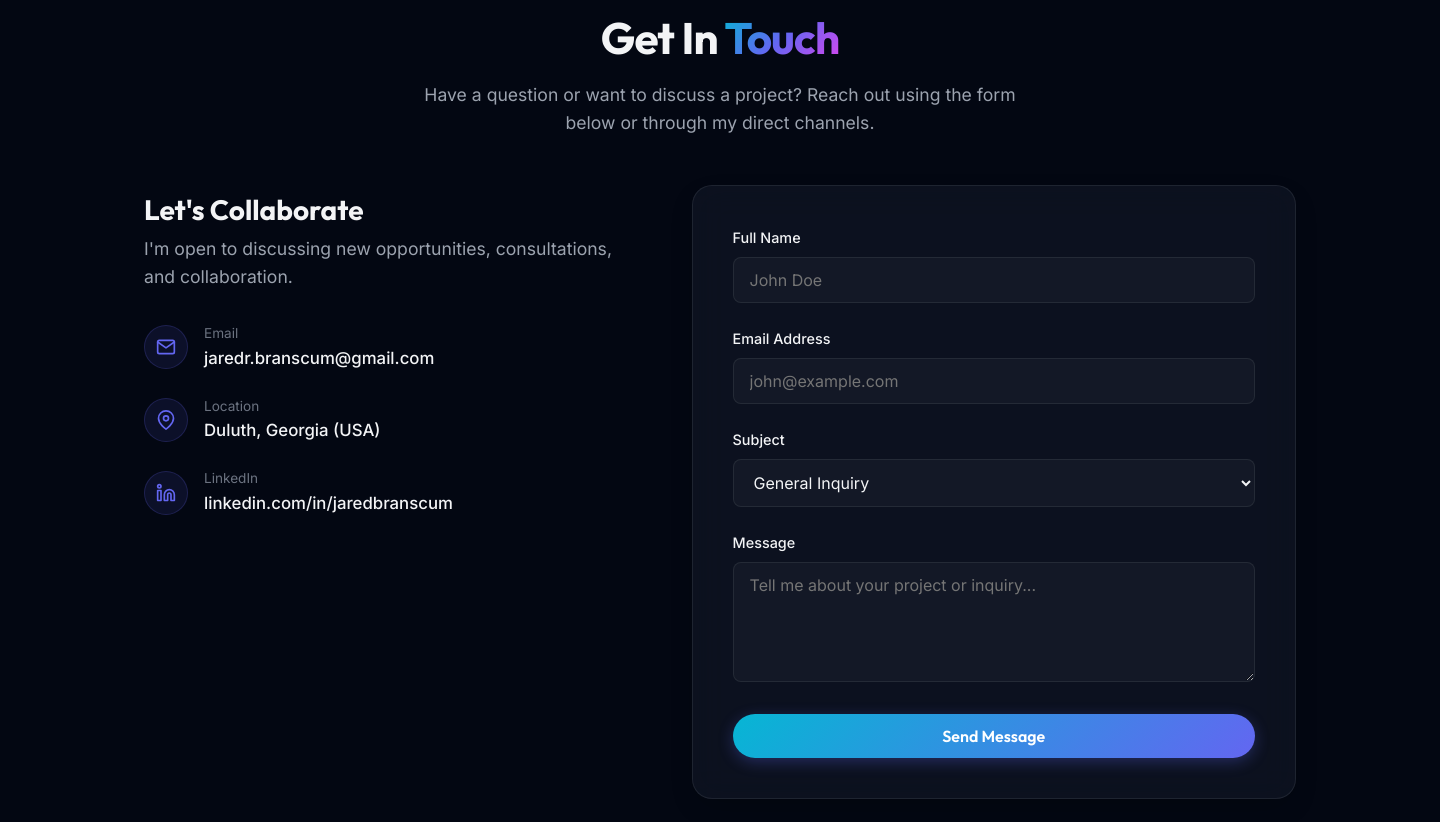
Test: Contact Component › displays validation error for invalid email
In the field with test id "form-input-name": (994, 280) [732,257,1255,303], type "Jane Doe"
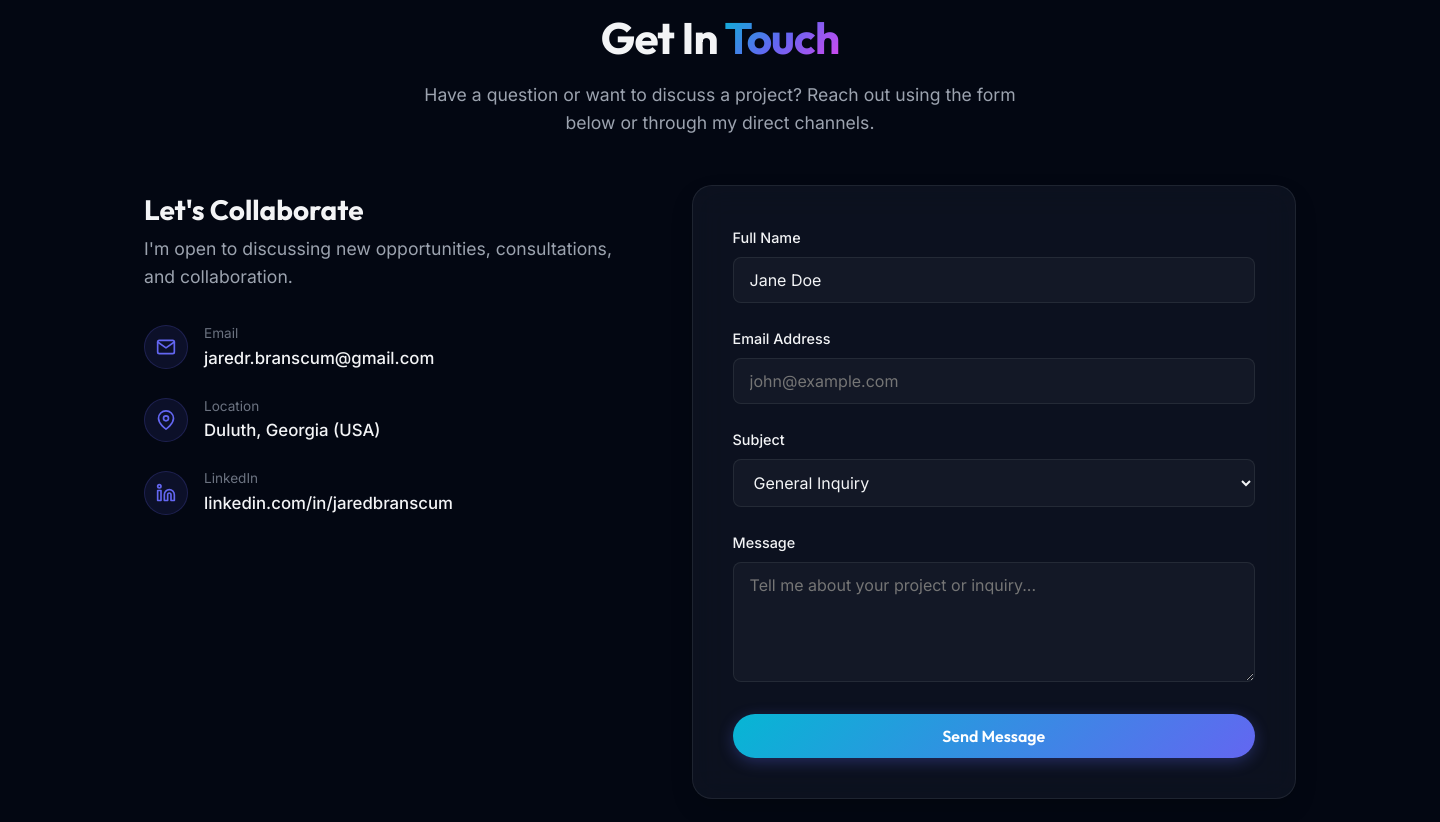
In the field with test id "form-input-email": (994, 381) [732,358,1255,404], type "invalid-email"
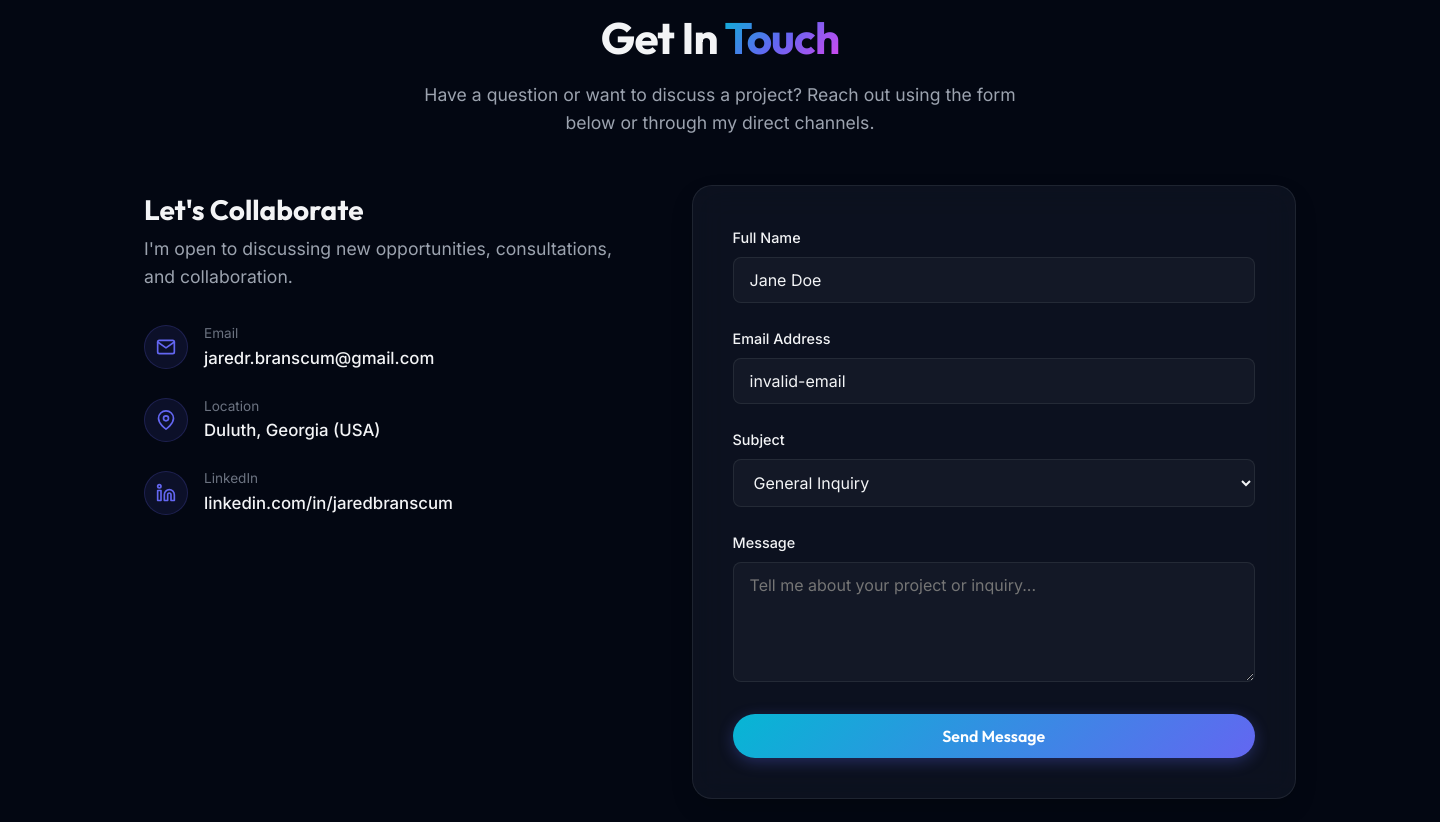
In the text box with test id "form-input-message": (994, 622) [732,562,1255,682], type "This is a long message to pass validation."
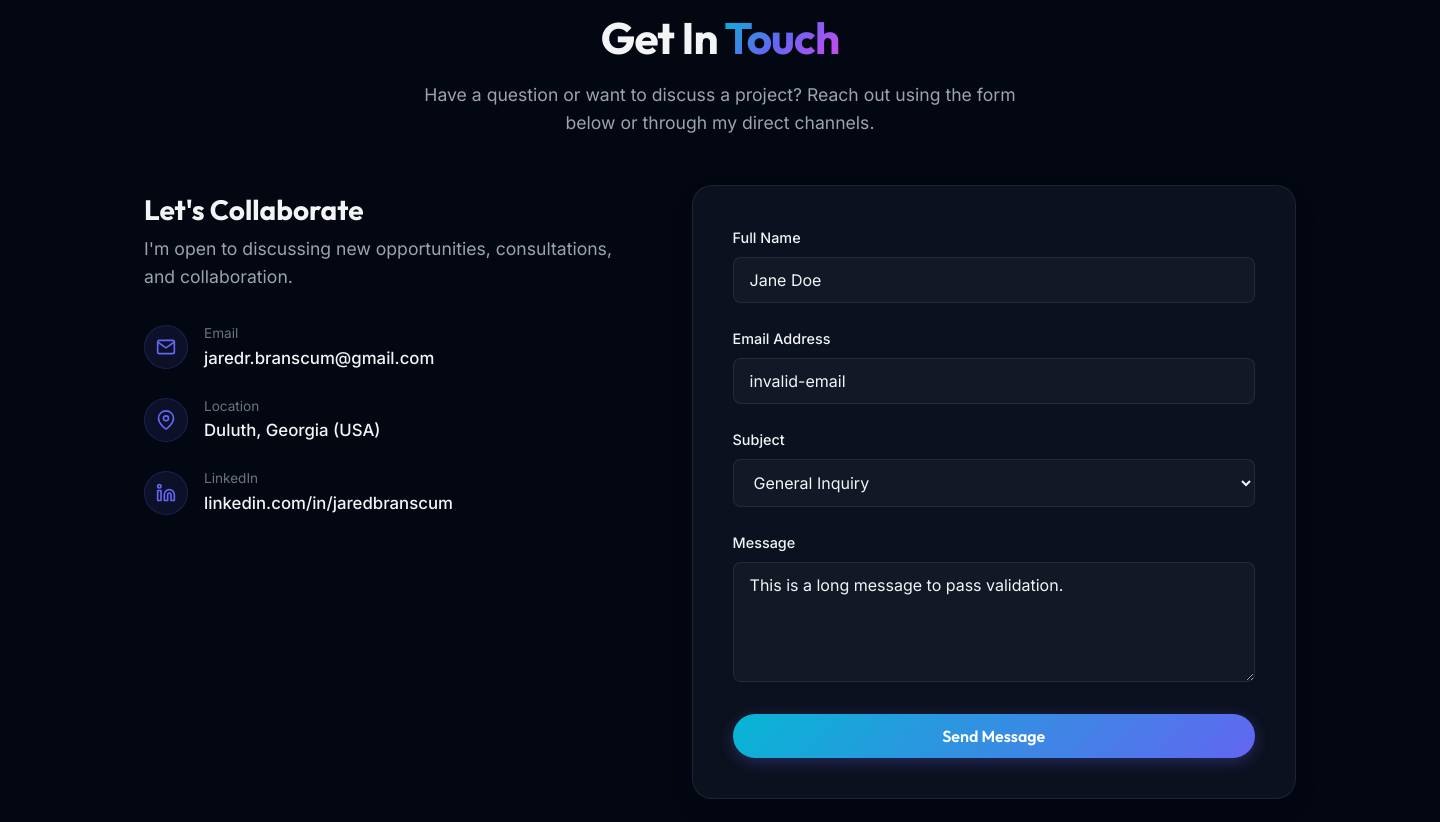
Click the button "Send Message": (994, 736) [732,714,1255,758]
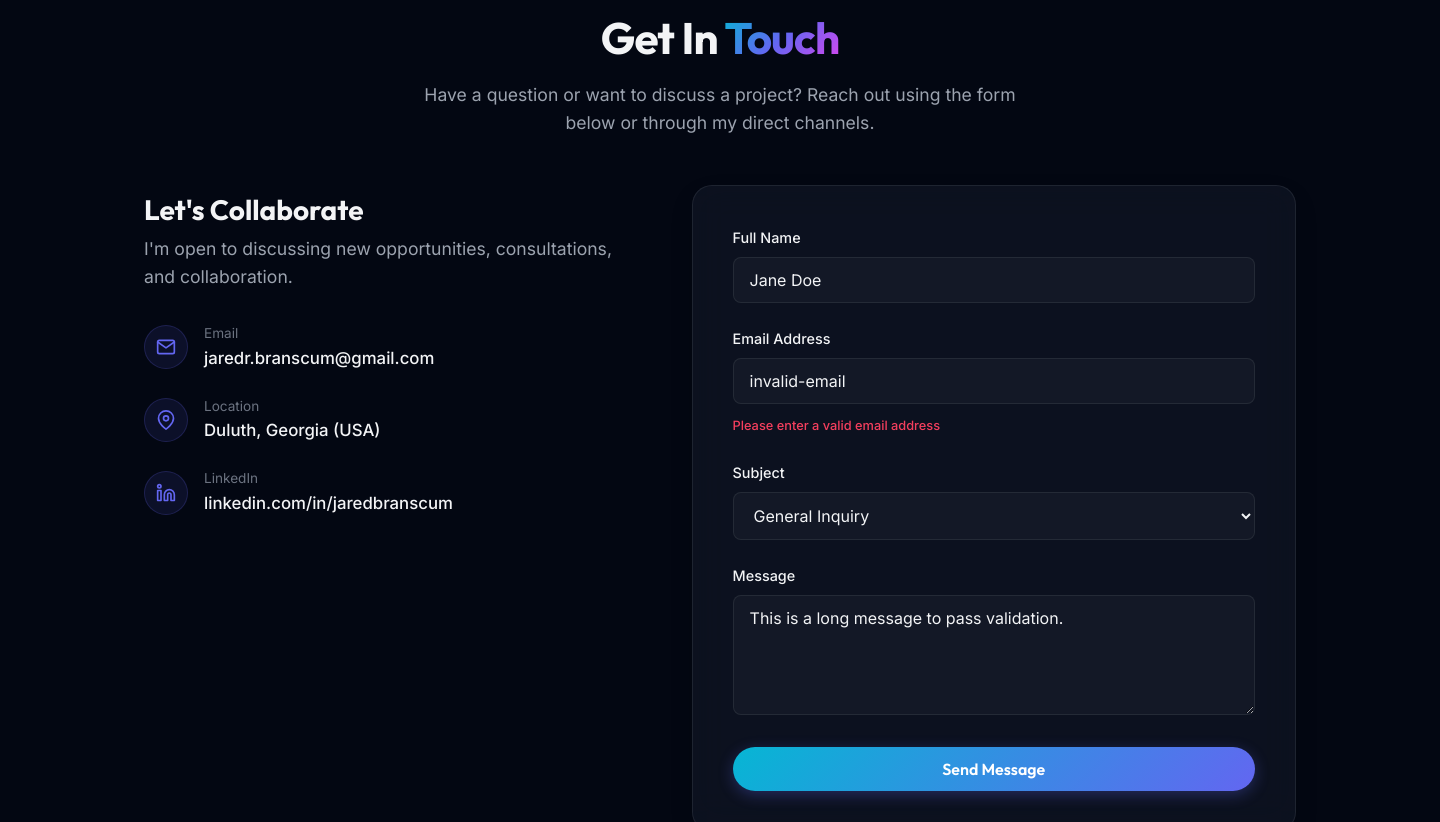
Expected: the text with test id "error-email" reads "Please enter a valid email address", [732,418,940,433]
